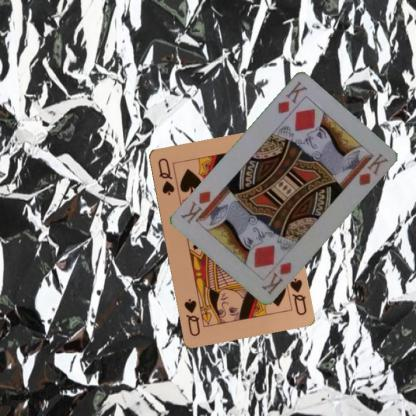Kd: (258, 252, 293, 296), (275, 78, 309, 114)
Qs: (154, 155, 176, 196), (287, 275, 308, 317)
